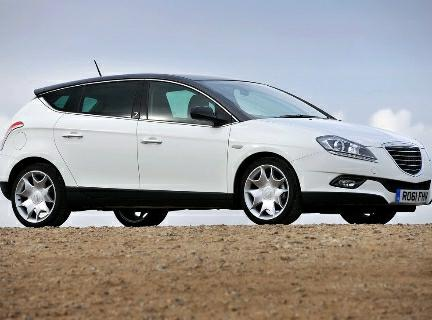car: (2, 58, 432, 232)
